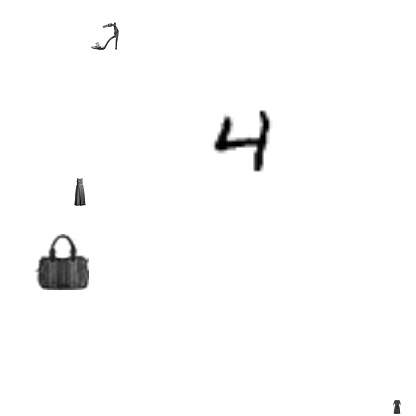4: (203, 96, 287, 180)
Bag: (33, 234, 89, 290)
Dress: (66, 178, 94, 206), (390, 400, 404, 414)
Sandal: (91, 22, 119, 50)
